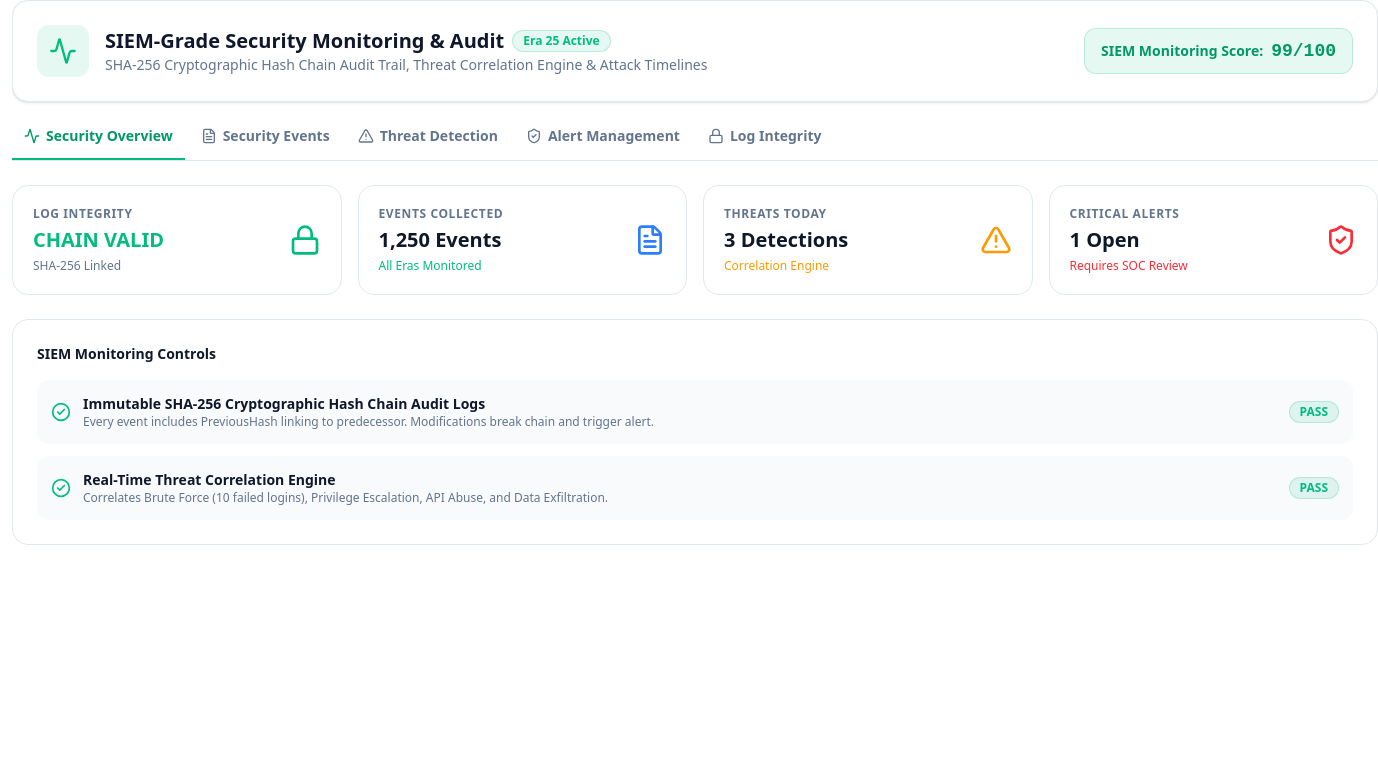
Test case: SIEMSecurityDashboard › clicking Log Integrity tab shows hash chain validation status
Click the button "Log Integrity": (765, 143) [696,126,834,160]
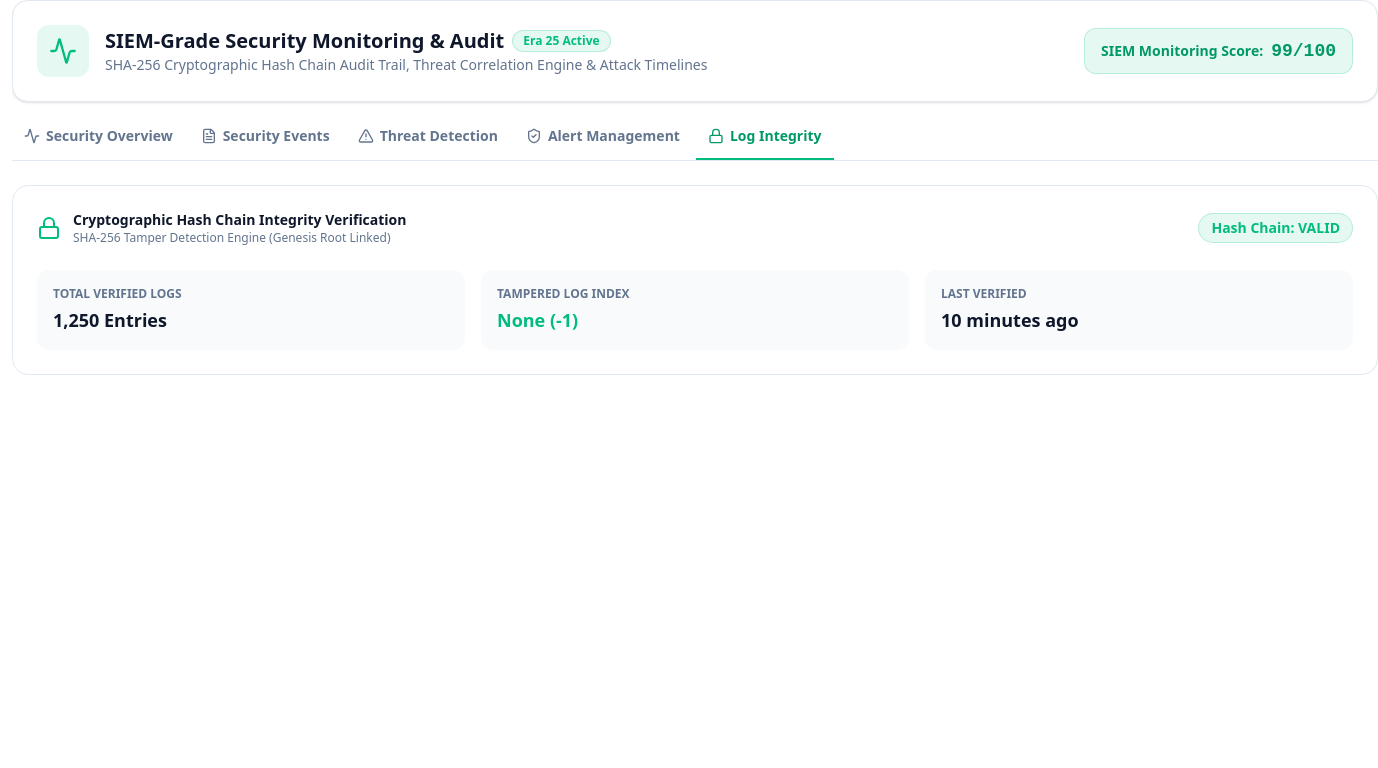
Expected: the heading "Cryptographic Hash Chain Integrity Verification" is shown, [73,210,406,230]
Expected: the text "Hash Chain: VALID" is shown, [1198,213,1353,243]
